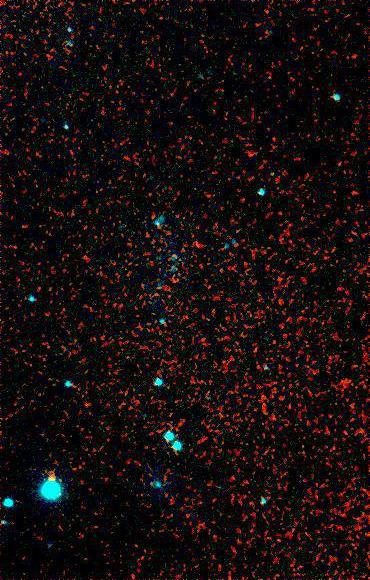star: (37, 466, 67, 496)
